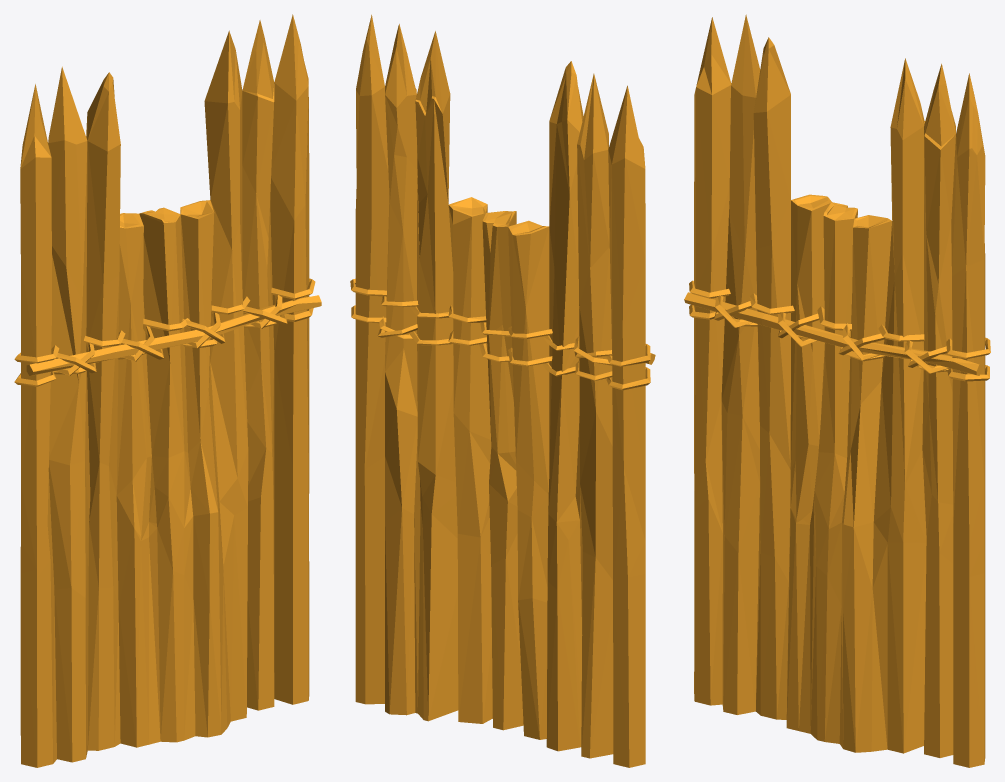
Rendered from SM_Palisade_3m_Window_A.fbx.
3 renders of one model, left to right at view 1: azimuth 30°, elevation 25°; view 2: azimuth 150°, elevation 25°; view 3: azimuth 330°, elevation 25°, orthographic.
Visible parts, largest first — view 1: palisade-3m-window-a; view 2: palisade-3m-window-a; view 3: palisade-3m-window-a.
Boxes of the visible parts, box(x1,y1,x2,y2) form: palisade-3m-window-a: box(14, 14, 321, 767); palisade-3m-window-a: box(350, 14, 655, 767); palisade-3m-window-a: box(684, 14, 990, 767).
Size of the model in its own units: 3.13 by 6.79 by 0.6558.
